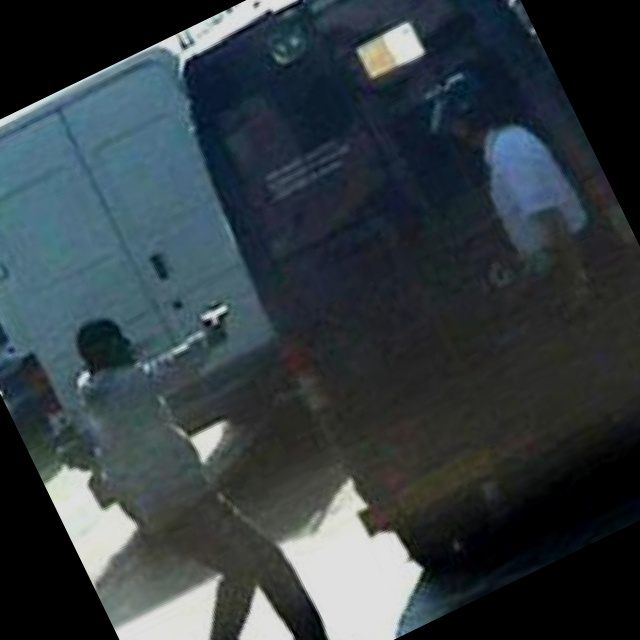gun: (181, 285, 259, 370)
